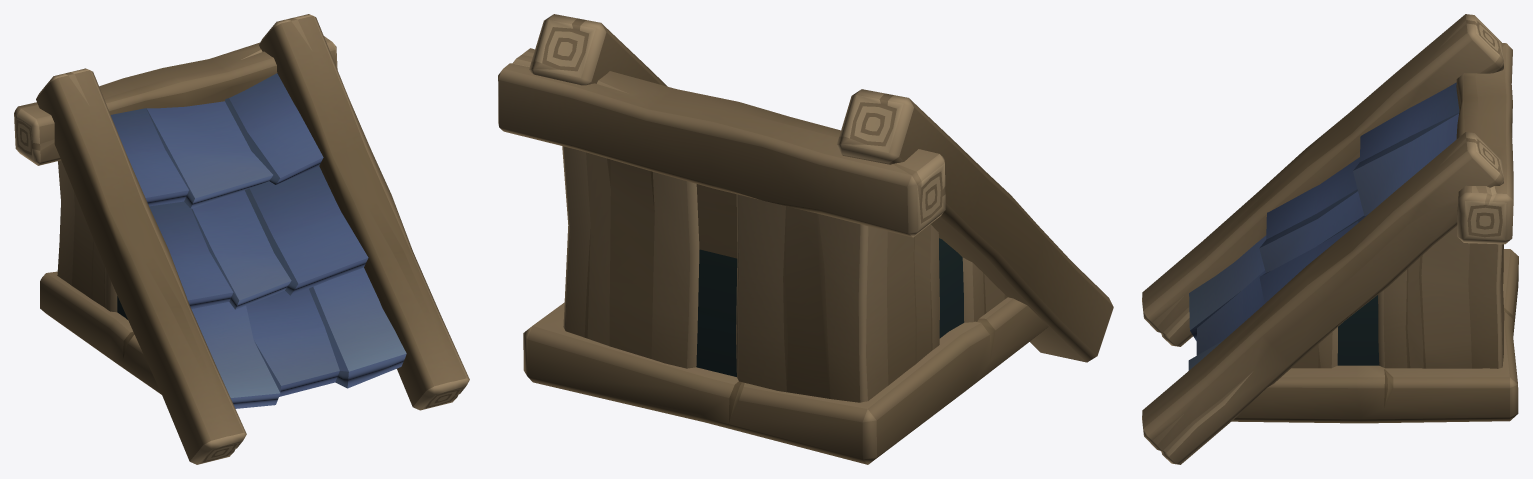
File: mine_building_roof.fbx
The picture shows the model from 3 angles, left to right: view 1: azimuth 30°, elevation 25°; view 2: azimuth 150°, elevation 25°; view 3: azimuth 270°, elevation 25°; orthographic projection. The views are drawn at different scales.
Visible parts, largest first — view 1: mine_building_roof; view 2: mine_building_roof; view 3: mine_building_roof.
Boxes of the visible parts, x1,y1,x2,y2 form: mine_building_roof: (14, 14, 469, 464); mine_building_roof: (498, 14, 1113, 464); mine_building_roof: (1142, 14, 1518, 464).
Bounding box in the file's own units: 461 × 418 × 454.
